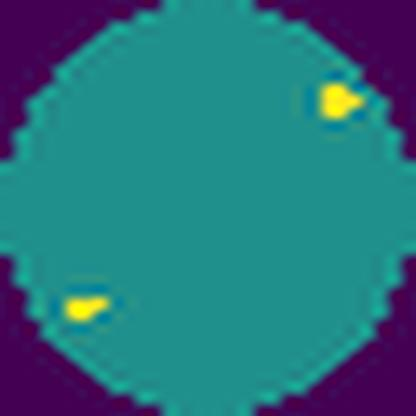Edge-Loc: (307, 76, 369, 130), (54, 285, 120, 330)
